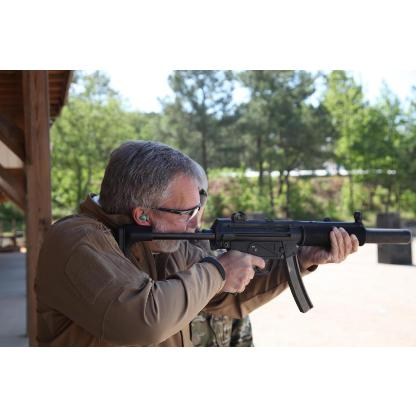gun: (135, 209, 413, 311)
